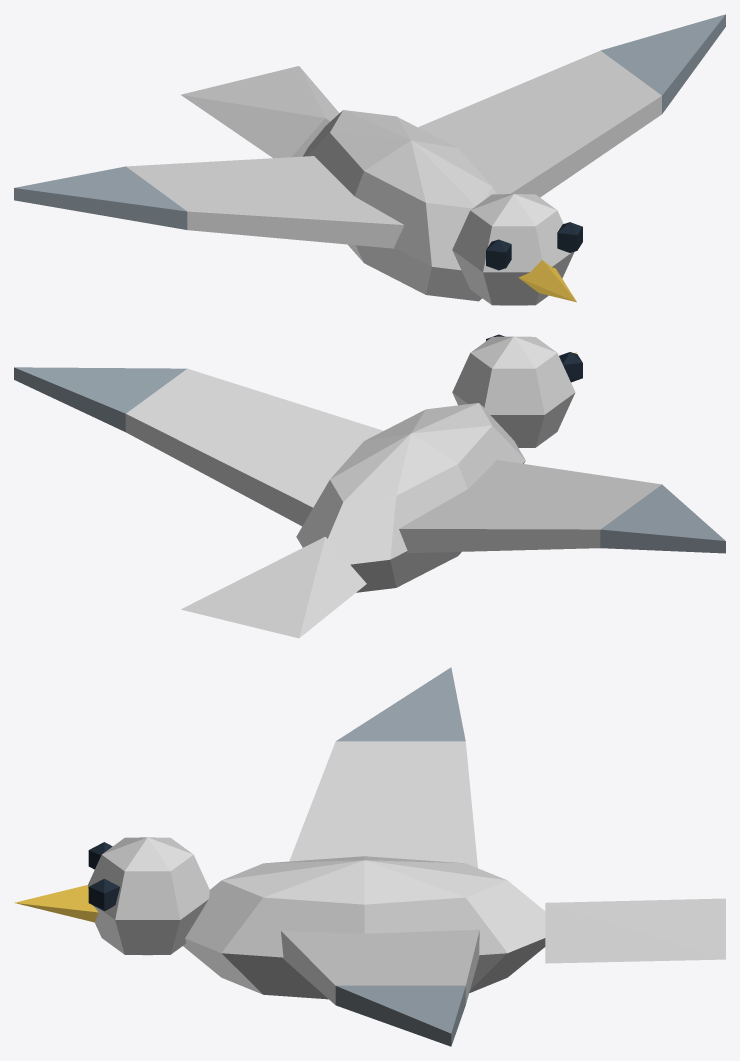
The model's file is gull.glb.
3 views of the same model, one above another, from view 1: azimuth 30°, elevation 25°; view 2: azimuth 150°, elevation 25°; view 3: azimuth 270°, elevation 25° (orthographic). The views are drawn at different scales.
Parts seen in each view (by area): view 1: Body, Wing.L, Wing.R; view 2: Body, Wing.L, Wing.R; view 3: Body, Wing.R, Wing.L.
Part boxes in pixels (x1,y1,x2,y2): Body: (181,66,582,305); Wing.L: (418,14,725,197); Wing.R: (14,156,404,248); Body: (181,334,582,638); Wing.L: (14,367,383,526); Wing.R: (399,460,725,553); Body: (14,837,725,999); Wing.R: (289,667,477,867); Wing.L: (281,929,479,1046).
Bounding box in the file's own units: 1.2 × 0.245 × 0.985.
